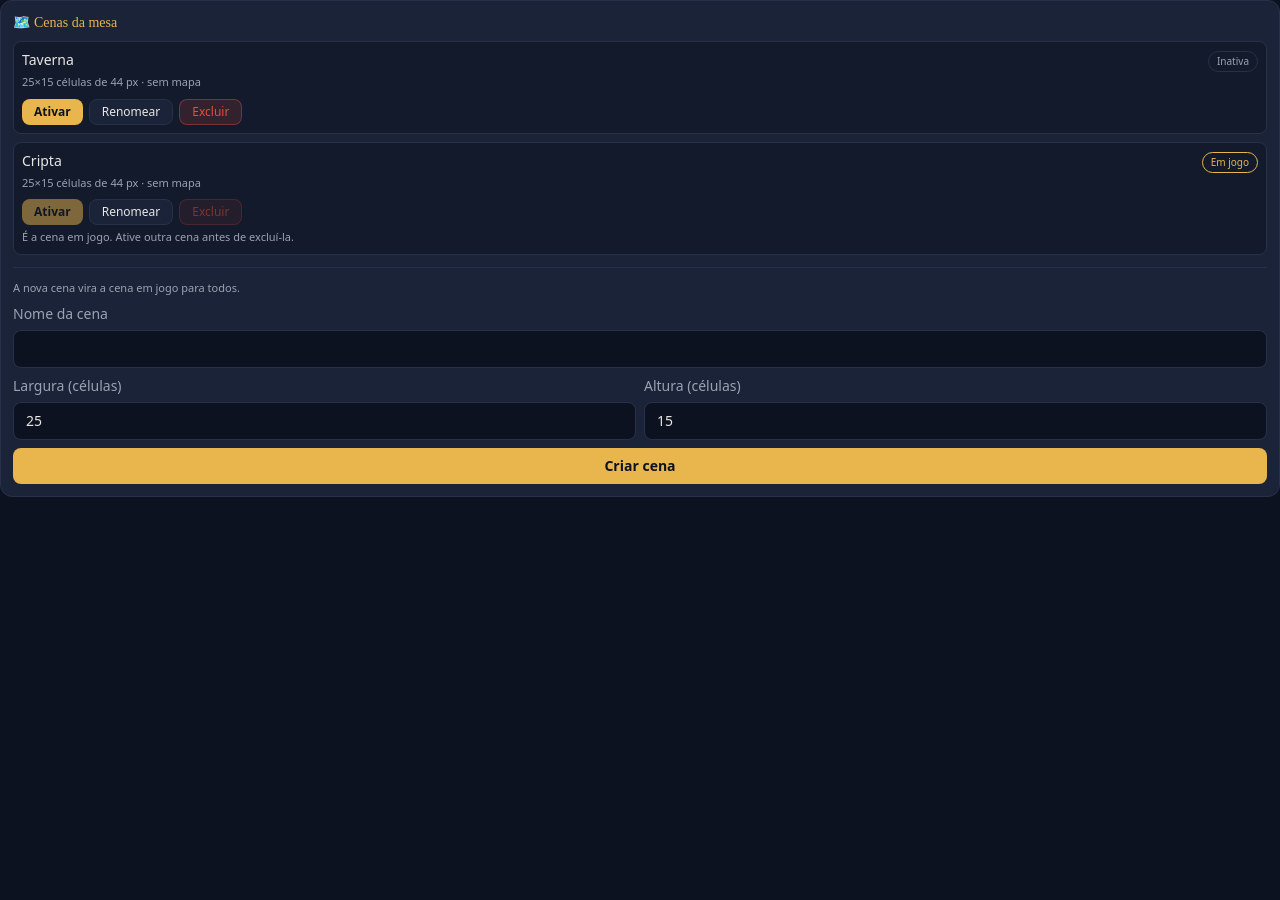
Test: GerenciadorCenas — exclusão (RV-030) › o 409 da API aparece em PT-BR dentro do diálogo
This screenshot has width=1280, height=900.
Expected: the text "Taverna" is shown, [22,50,74,70]
Click the button with aria-label "Excluir a cena Taverna" at x=211, y=112, box [179,98,242,124]
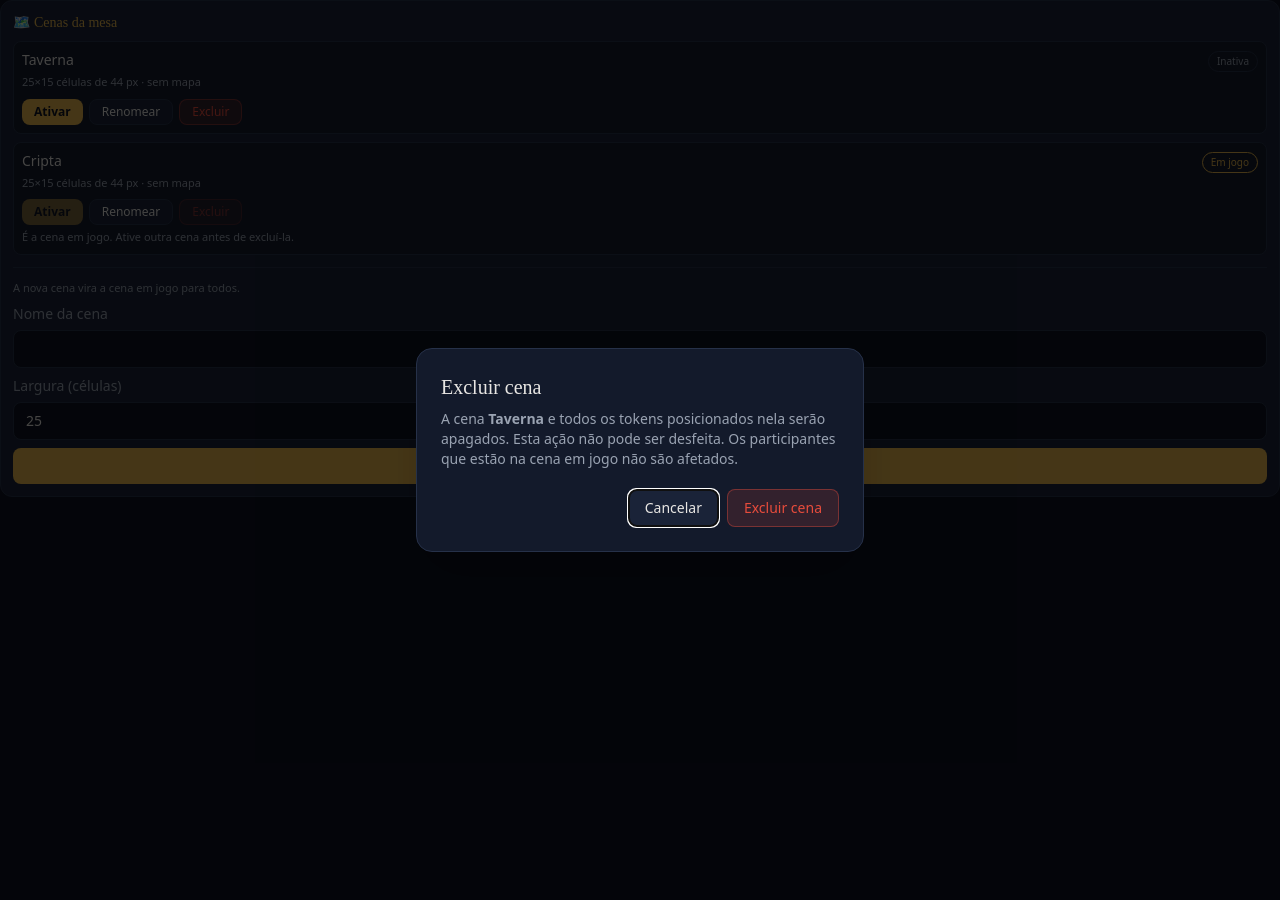
Click the button "Excluir cena" at x=783, y=508, box [727,489,839,527]
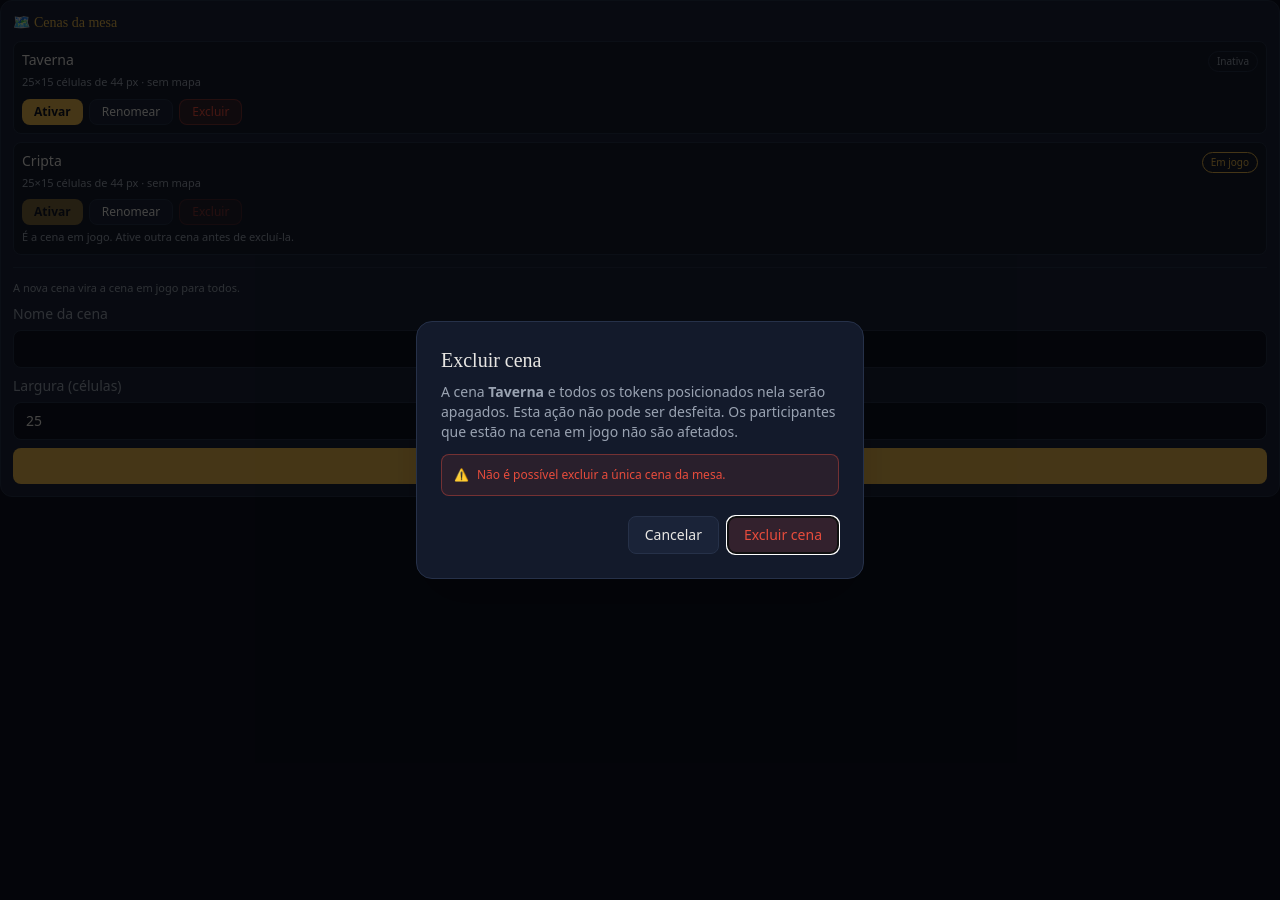
Expected: the text "Não é possível excluir a única cena da mesa." is shown, [477,467,726,483]
